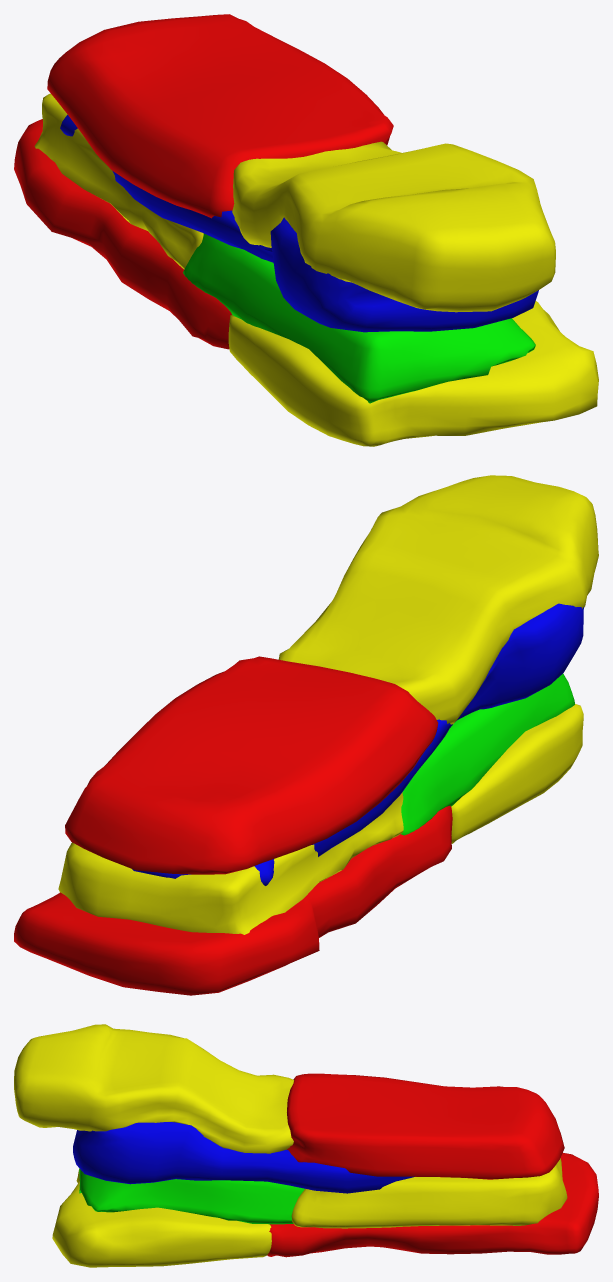
File: rock4.fbx
3 renders of one model, top to bottom at view 1: azimuth 30°, elevation 25°; view 2: azimuth 150°, elevation 25°; view 3: azimuth 270°, elevation 25°, orthographic. The views are drawn at different scales.
Parts seen in each view (by area): view 1: rock4:rocher4; view 2: rock4:rocher4; view 3: rock4:rocher4.
Boxes of the visible parts, box(x1,y1,x2,y2) form: rock4:rocher4: box(14, 14, 598, 446); rock4:rocher4: box(14, 475, 598, 995); rock4:rocher4: box(14, 1024, 598, 1267).
Bounding box in the file's own units: 798 × 676 × 2129.
